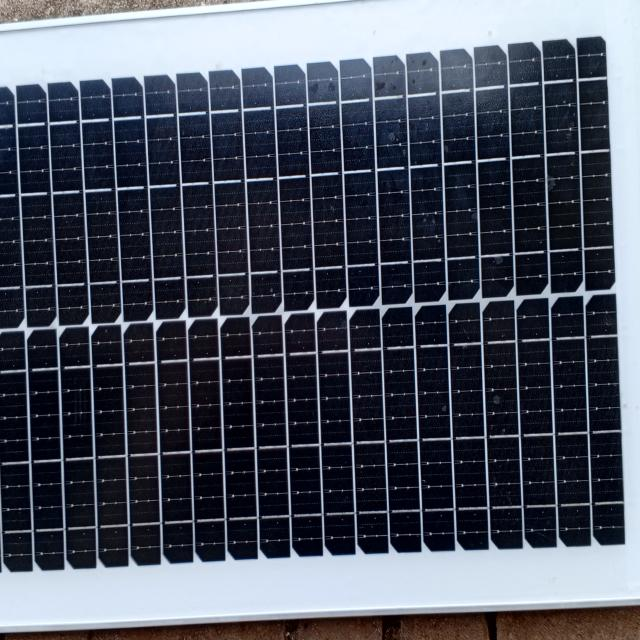Clean: (9, 41, 630, 566)
